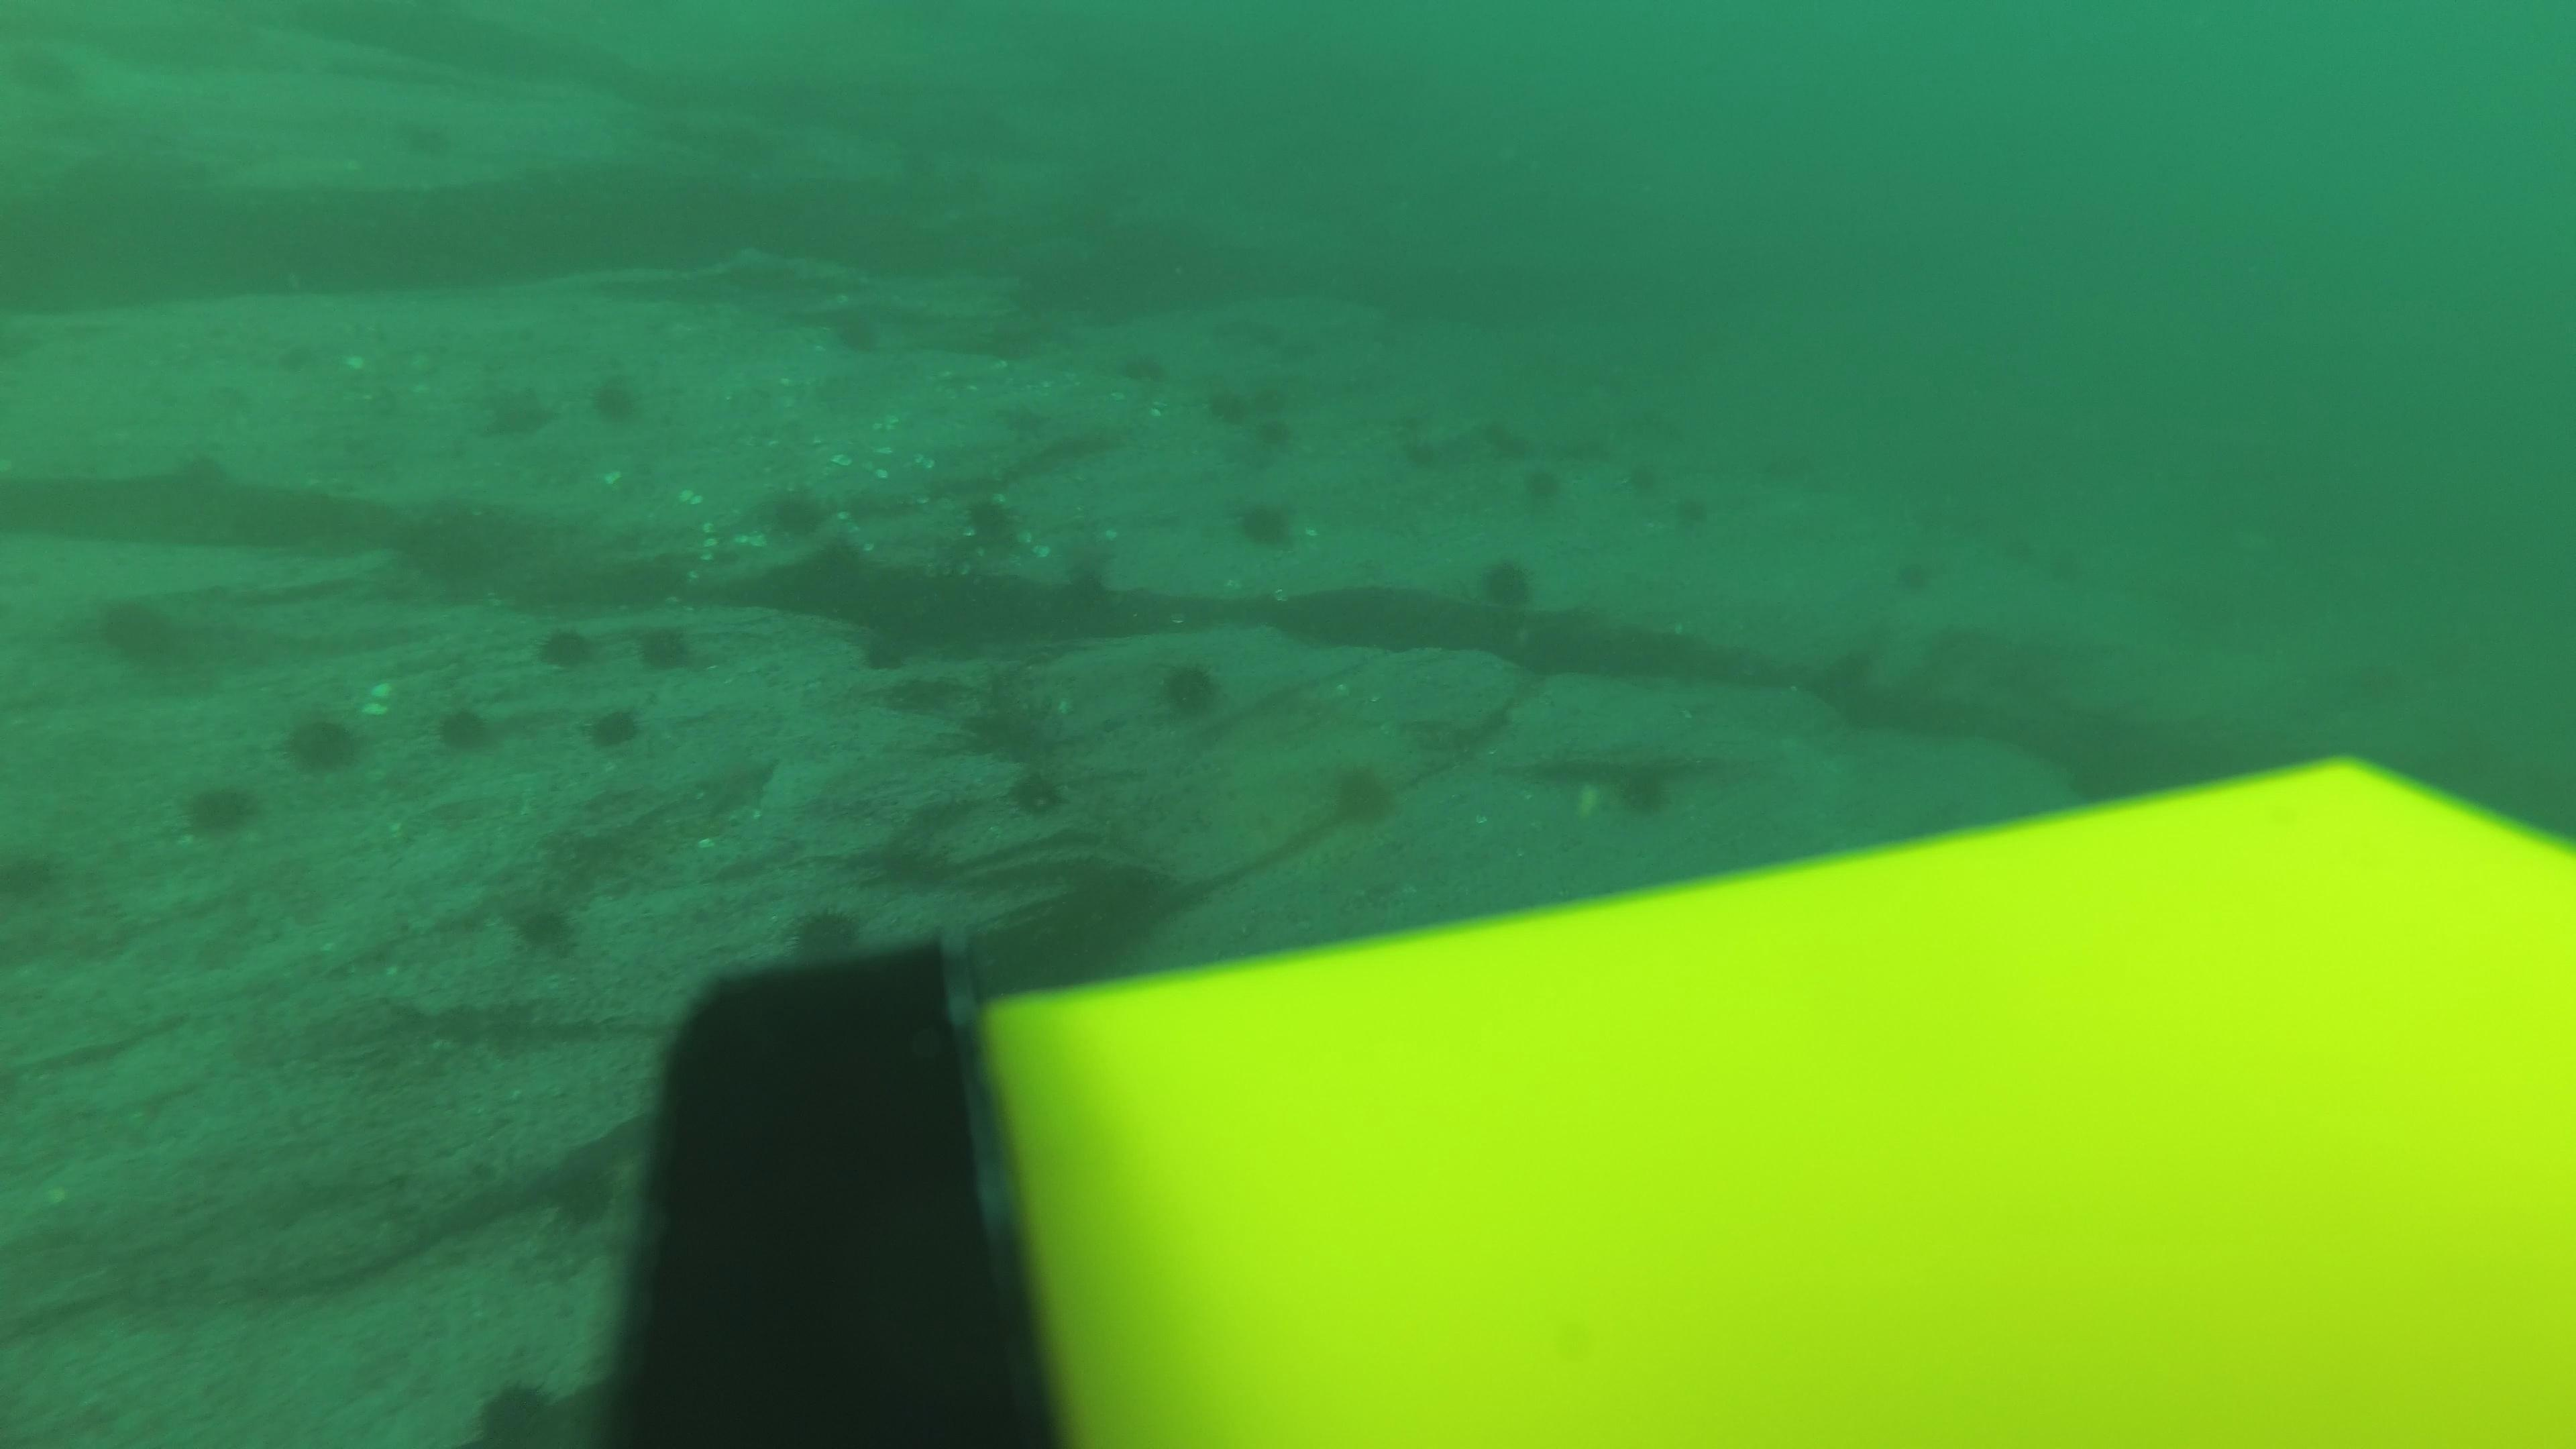echinus: (85, 586, 202, 678), (467, 1371, 571, 1447), (278, 701, 370, 780), (538, 1146, 619, 1233), (1318, 755, 1405, 833), (175, 771, 264, 847), (778, 899, 870, 971), (1599, 752, 1686, 826), (1146, 653, 1231, 727), (504, 893, 587, 966), (952, 488, 1033, 561), (754, 479, 835, 548), (0, 837, 69, 913), (1228, 492, 1304, 557), (428, 695, 502, 761), (630, 616, 706, 679), (1000, 759, 1072, 821), (819, 299, 892, 361), (582, 366, 649, 432), (1472, 552, 1541, 616), (533, 619, 600, 676), (582, 701, 648, 755), (849, 621, 913, 674), (1514, 462, 1568, 511), (1626, 460, 1679, 510), (1893, 548, 1948, 596), (1660, 494, 1713, 541), (1214, 389, 1258, 428), (1270, 336, 1315, 375), (1258, 416, 1302, 453), (1260, 384, 1304, 421), (1233, 313, 1277, 350), (1113, 350, 1157, 387), (1488, 428, 1532, 465)
starfish: (690, 750, 780, 824), (982, 391, 1067, 460), (476, 379, 561, 446), (395, 119, 462, 175), (927, 157, 993, 203), (883, 138, 948, 182)
